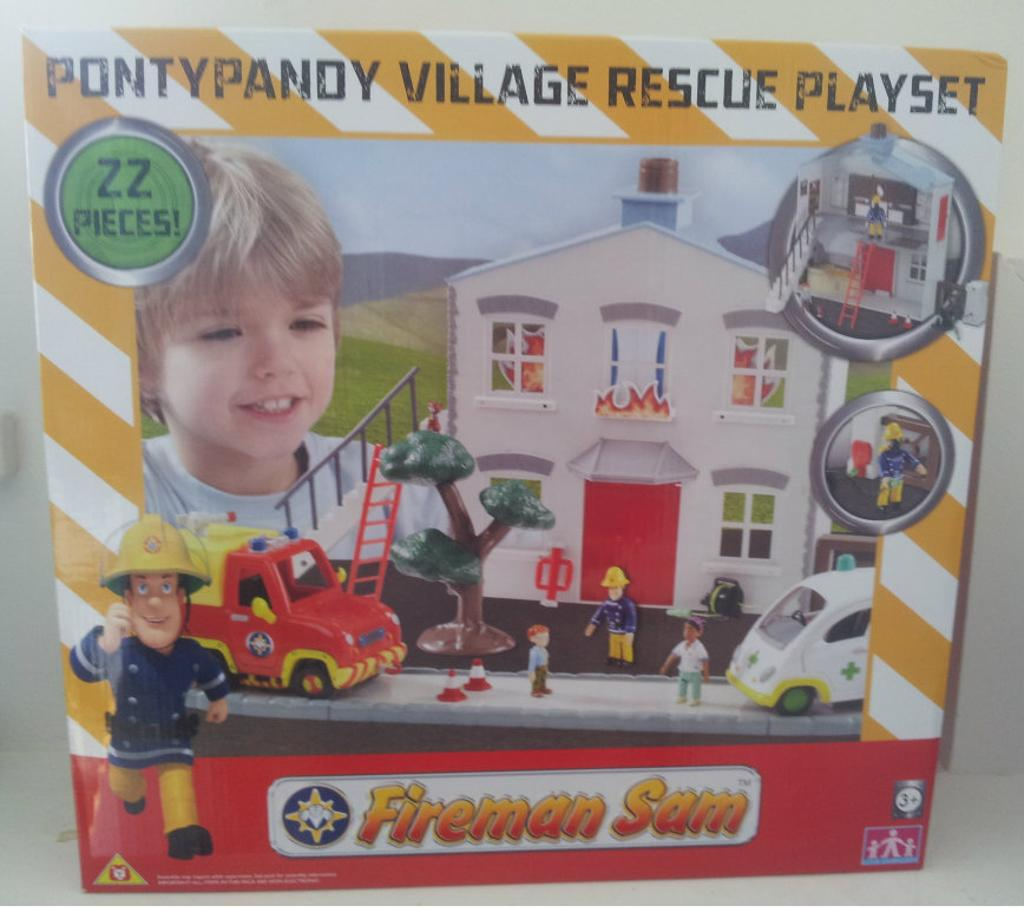face: (163, 237, 337, 457)
